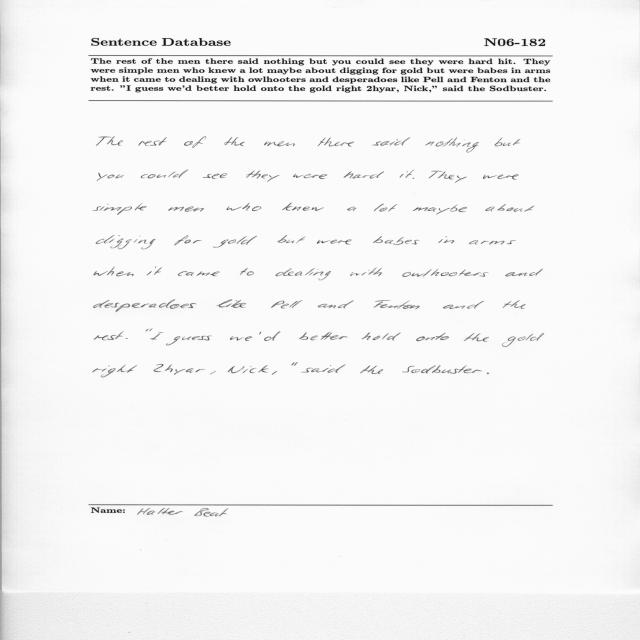word: (94, 300, 196, 312), (96, 236, 155, 250), (425, 138, 479, 153), (402, 365, 482, 374), (402, 269, 488, 277), (275, 269, 331, 281), (93, 203, 147, 215), (502, 333, 544, 347), (93, 365, 137, 378), (153, 364, 205, 375), (413, 205, 467, 215), (213, 236, 257, 248), (166, 336, 212, 346), (429, 171, 467, 183), (373, 236, 420, 245), (246, 170, 280, 182), (374, 300, 419, 309), (302, 364, 346, 373), (486, 204, 535, 212), (299, 332, 348, 340), (141, 170, 188, 178), (94, 267, 134, 276), (372, 137, 410, 146), (282, 203, 324, 211), (344, 171, 385, 179), (443, 301, 484, 309), (318, 138, 354, 147), (228, 365, 268, 373), (362, 333, 401, 341), (350, 268, 382, 277), (318, 301, 354, 309), (226, 203, 261, 211), (174, 236, 202, 246), (271, 300, 302, 309), (94, 331, 124, 340), (505, 269, 543, 276), (416, 333, 449, 341), (138, 137, 167, 146), (278, 235, 306, 244), (96, 137, 123, 146), (97, 172, 124, 181), (184, 137, 206, 148), (216, 300, 246, 308), (494, 138, 520, 147), (469, 240, 515, 245), (464, 333, 489, 342), (483, 174, 518, 180), (260, 331, 281, 341), (503, 300, 526, 309), (178, 271, 219, 276), (224, 137, 245, 146), (374, 204, 397, 212), (360, 366, 383, 374), (168, 207, 204, 212), (317, 240, 352, 245), (293, 174, 327, 179), (264, 141, 295, 146), (203, 173, 227, 179), (439, 236, 455, 244), (147, 267, 162, 275), (400, 170, 414, 178), (230, 336, 252, 341), (240, 269, 254, 276), (150, 333, 163, 340), (347, 207, 357, 211), (146, 329, 153, 332), (272, 371, 277, 375), (210, 371, 216, 374), (292, 363, 298, 366), (413, 177, 415, 179), (126, 338, 128, 339), (487, 373, 489, 374)
